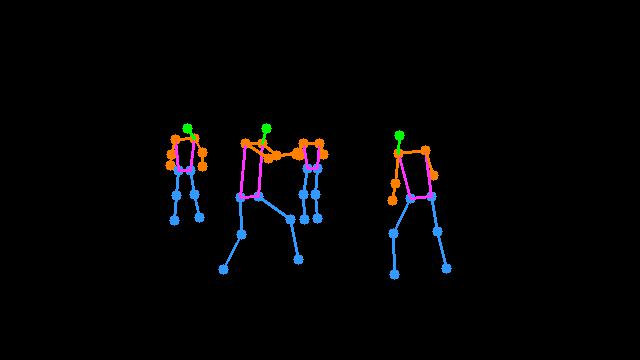normal: (207, 116, 337, 288), (358, 110, 471, 306), (156, 115, 219, 233)
